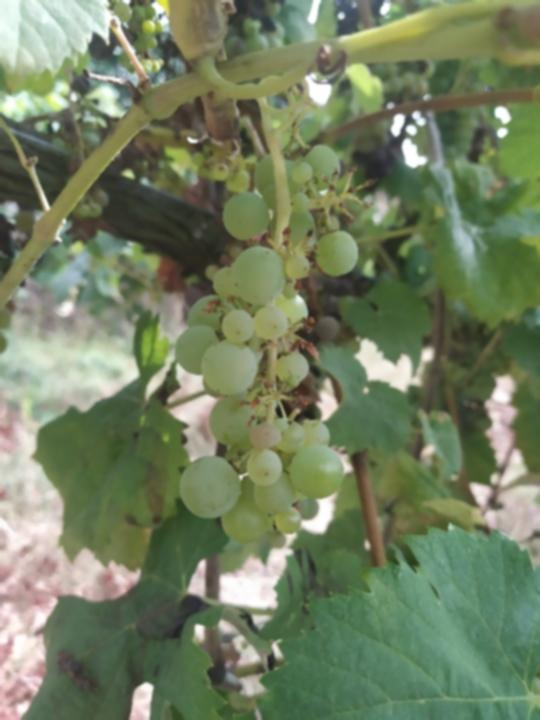grape: (171, 143, 361, 550)
